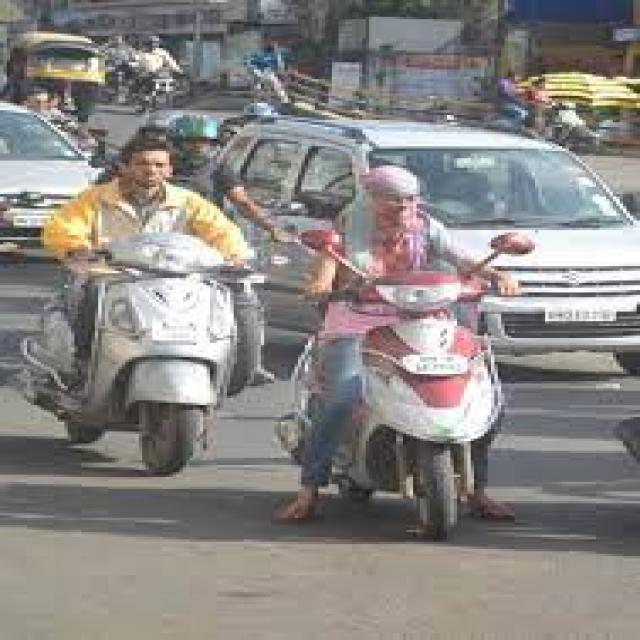Vehicles: (194, 78, 640, 426), (32, 216, 290, 458), (300, 270, 518, 542), (4, 85, 156, 276), (0, 31, 132, 139)
